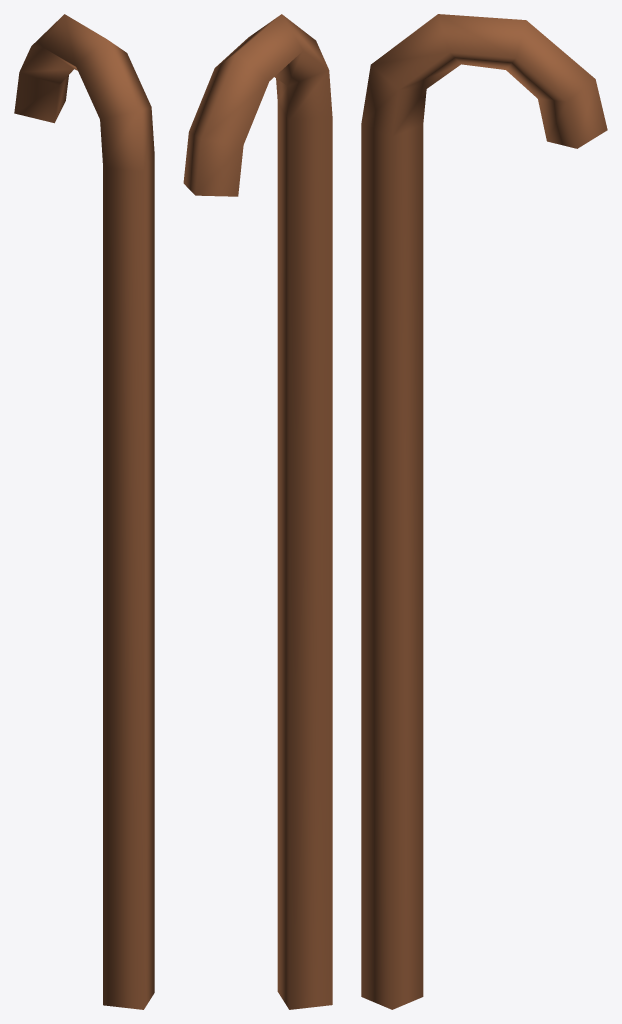
The model's file is cane.glb.
3 renders of one model, left to right at view 1: azimuth 30°, elevation 25°; view 2: azimuth 150°, elevation 25°; view 3: azimuth 270°, elevation 25°, orthographic. The views are drawn at different scales.
Parts seen in each view (by area): view 1: character_oldadult_male_cane; view 2: character_oldadult_male_cane; view 3: character_oldadult_male_cane.
Part boxes in pixels (box(x1,y1,x2,y2)): character_oldadult_male_cane: box(14, 14, 154, 1009); character_oldadult_male_cane: box(183, 14, 332, 1009); character_oldadult_male_cane: box(361, 14, 607, 1009).
Bounding box in the file's own units: 0.0473 × 0.8263 × 0.1878.
Materials: 1 (1 with a texture image).
